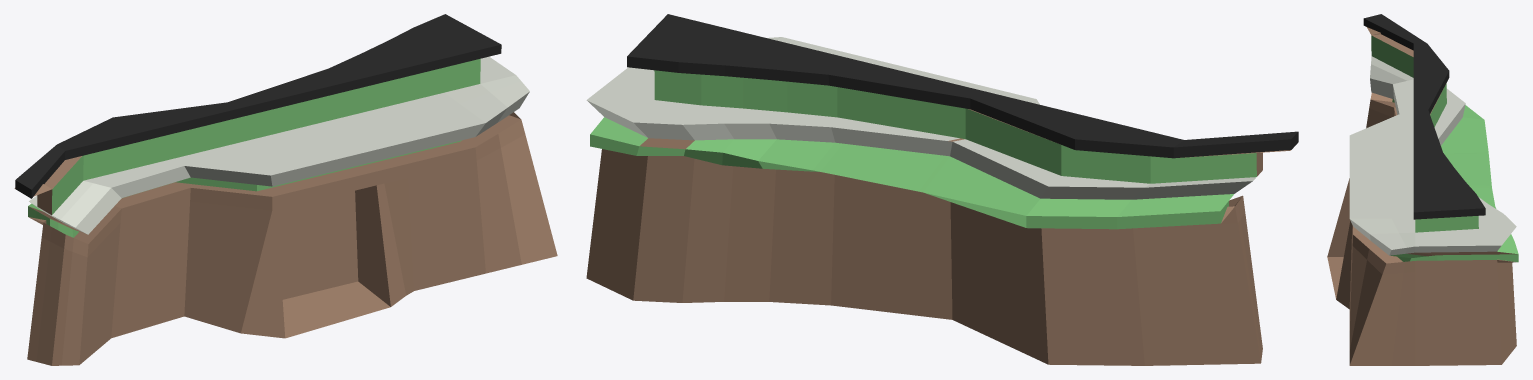
The model's file is 2ndCounter.fbx.
3 views of the same model, side by side, from view 1: azimuth 30°, elevation 25°; view 2: azimuth 150°, elevation 25°; view 3: azimuth 270°, elevation 25° (orthographic). The views are drawn at different scales.
Visible parts, largest first — view 1: Cube.018; view 2: Cube.018; view 3: Cube.018.
Part boxes in pixels (<box>): Cube.018: <box>14,14,557,365</box>; Cube.018: <box>586,14,1298,365</box>; Cube.018: <box>1327,14,1518,365</box>.
Bounding box in the file's own units: 4.26 × 1.49 × 1.7.
